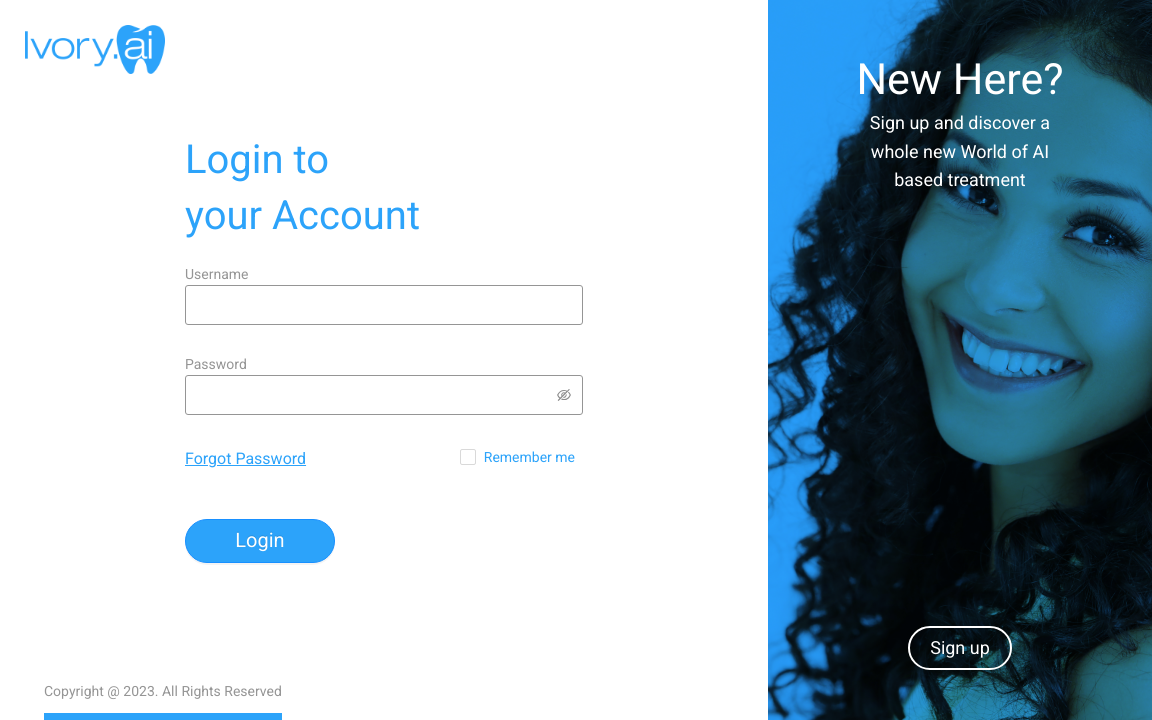
Test: Writing test case for Patient Login Page › 18, test case to username for error message
The image size is (1152, 720).
Click the button with test id "login-submit-btn" at (260, 541), box [185,519,335,563]
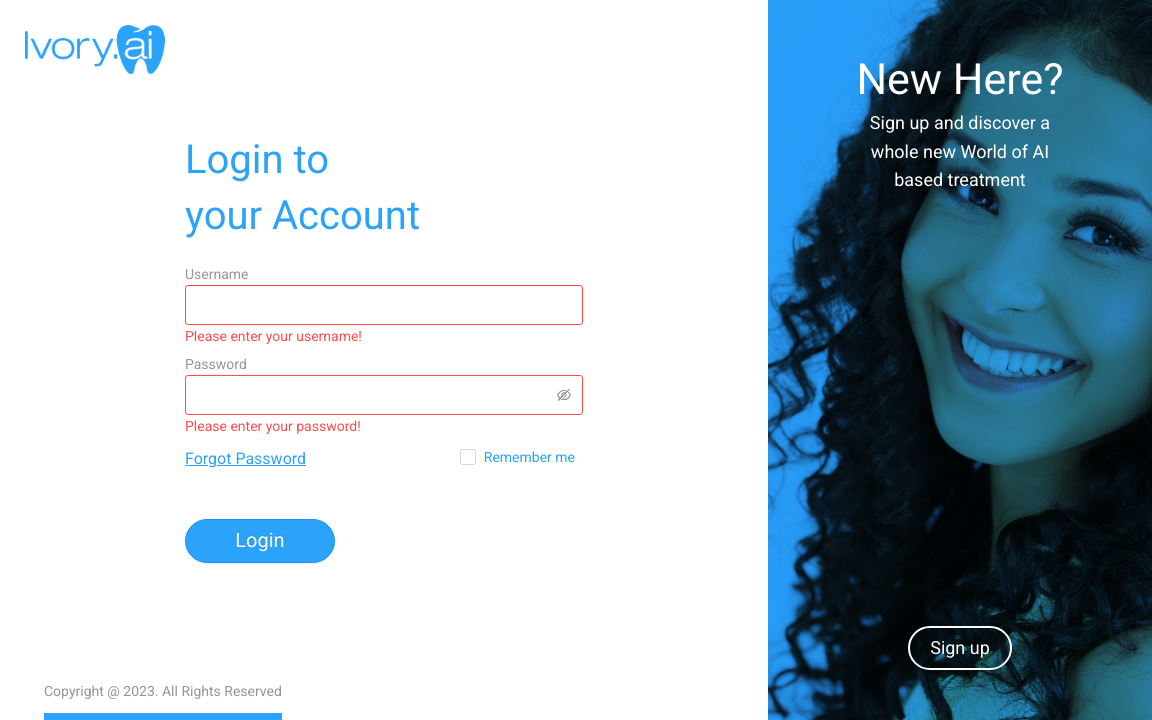
Result: the text "Please enter your username!" is shown at [185,328,362,344]
